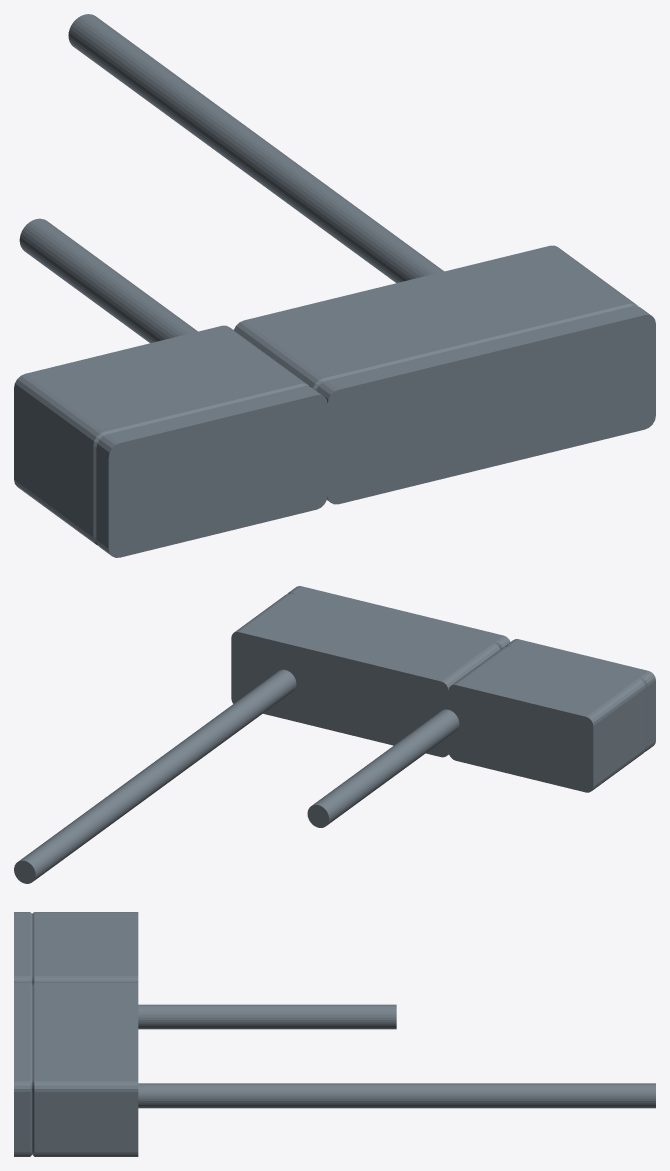
File: SmokeDetector.glb
3 renders of one model, top to bottom at view 1: azimuth 30°, elevation 25°; view 2: azimuth 150°, elevation 25°; view 3: azimuth 270°, elevation 25°, orthographic. The views are drawn at different scales.
Visible parts, largest first — view 1: child.001, child.003, child.002; view 2: child.001, child.003, child.002; view 3: child.001, child.003, child.002.
Part boxes in pixels (x1,y1,x2,y2): child.001: (14,245,655,557); child.003: (68,14,443,282); child.002: (19,218,197,343); child.001: (231,586,655,792); child.003: (14,669,296,883); child.002: (307,709,459,827); child.001: (14,912,138,1156); child.003: (138,1083,655,1108); child.002: (138,1004,396,1029).
Bounding box in the file's own units: 200 × 40 × 310.
